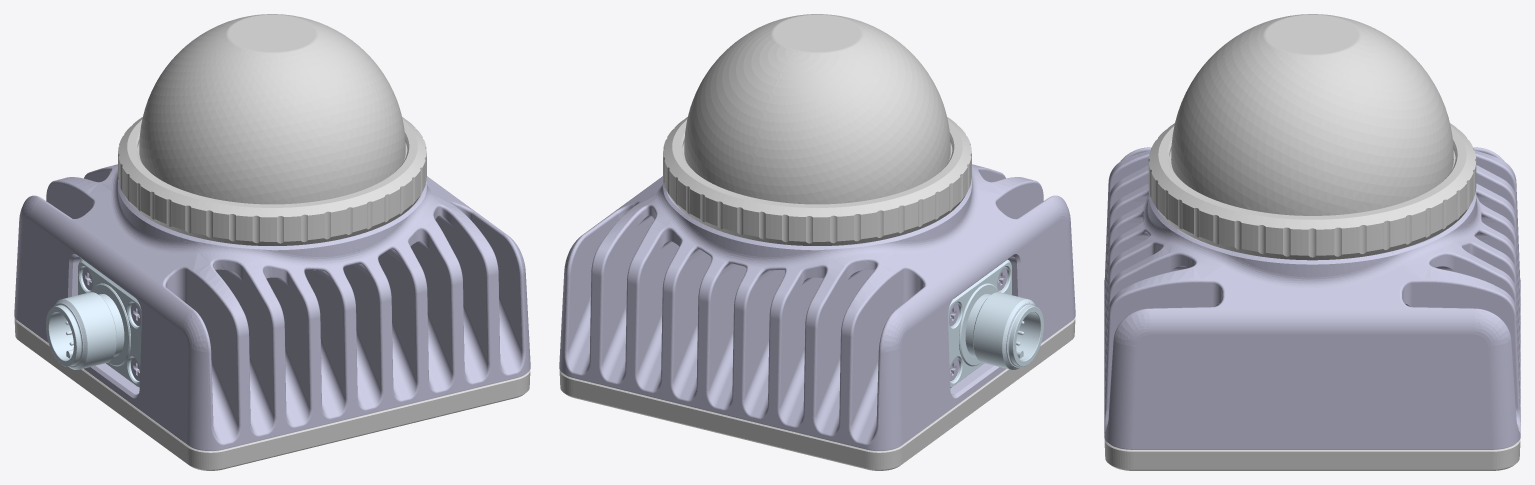
Rendered from mid360.dae.
3 views of the same model, side by side, from view 1: azimuth 30°, elevation 25°; view 2: azimuth 150°, elevation 25°; view 3: azimuth 270°, elevation 25° (orthographic). The views are drawn at different scales.
Visible parts, largest first — view 1: node7, node0, node1, node2; view 2: node7, node0, node1, node2; view 3: node7, node0, node1.
Part boxes in pixels (<box>): node7: <box>14,164,530,450</box>; node0: <box>118,14,426,245</box>; node1: <box>14,317,530,470</box>; node2: <box>46,259,141,387</box>; node7: <box>559,164,1075,450</box>; node0: <box>663,14,971,245</box>; node1: <box>559,317,1075,470</box>; node2: <box>948,259,1043,387</box>; node7: <box>1104,147,1520,449</box>; node0: <box>1148,14,1476,260</box>; node1: <box>1104,439,1520,470</box>.
Size of the model in its own units: 0.0727 by 0.0649 by 0.0601.
